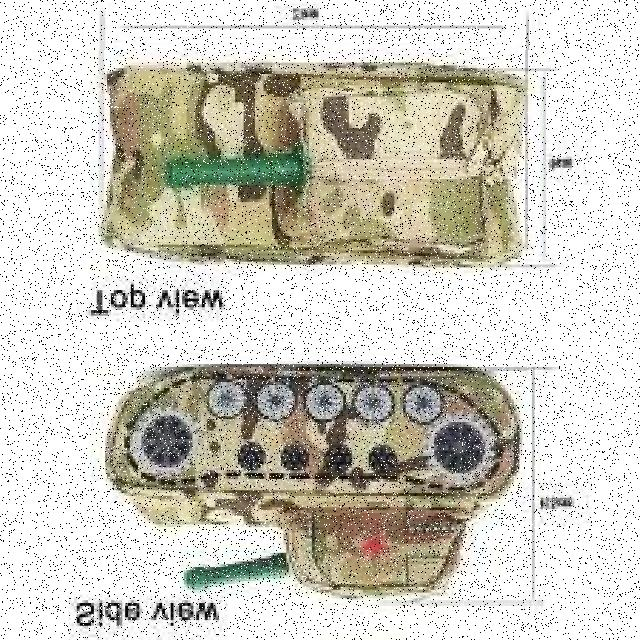MIL_MBT: (83, 50, 531, 268), (106, 369, 527, 599)
